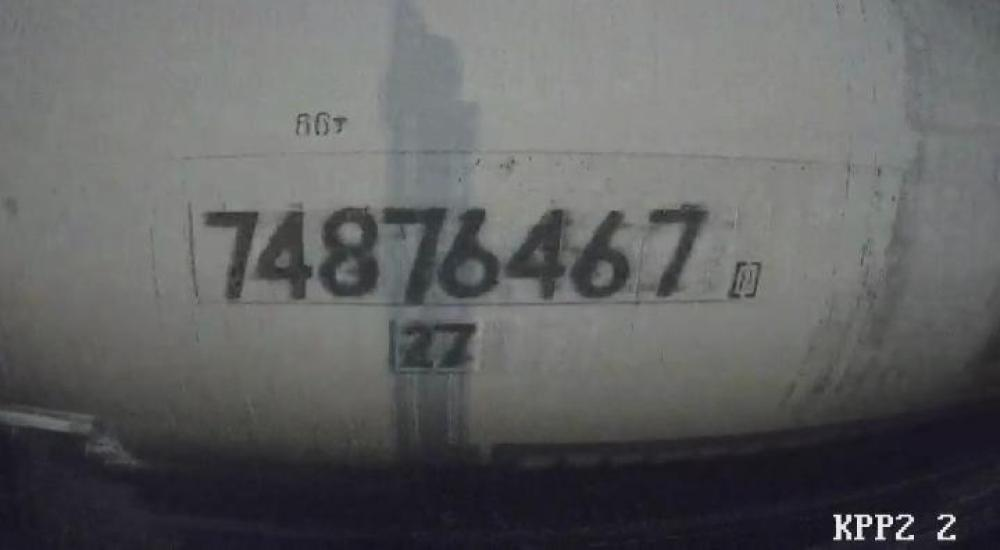Wagon-number: (205, 199, 709, 301)
